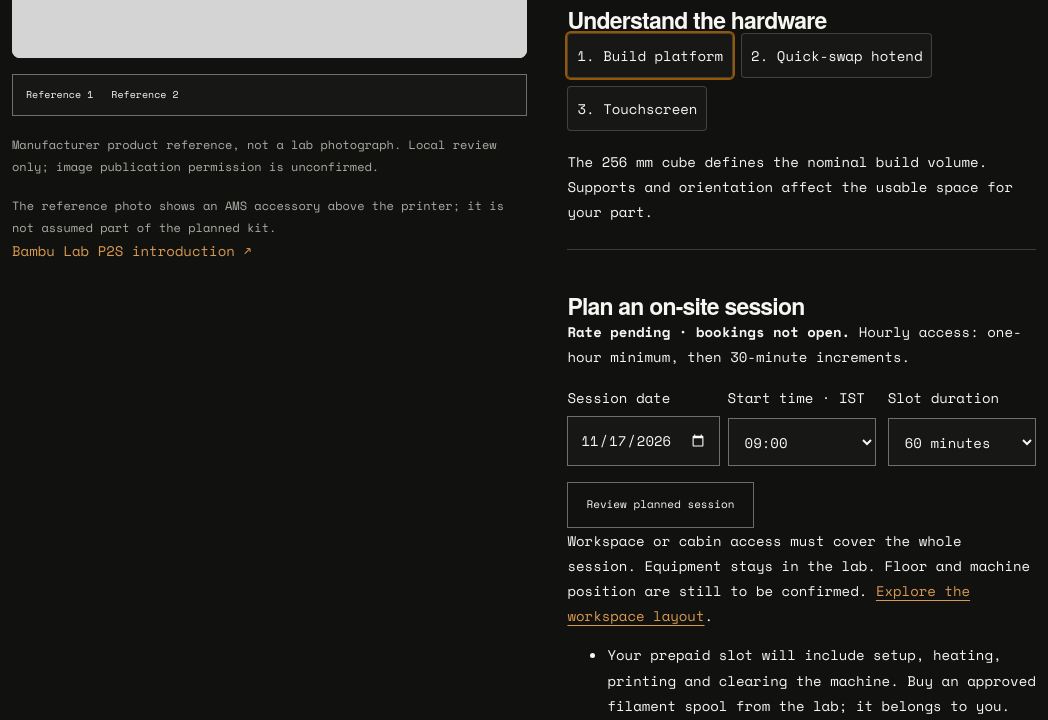
keeps a planned printer session inside standard workspace access
The width and height of the screenshot is (1048, 720).
(page scrolled)
Select "16:00" in the dropdown labelled "Start time · IST" at (802, 442), box [728,418,876,466]
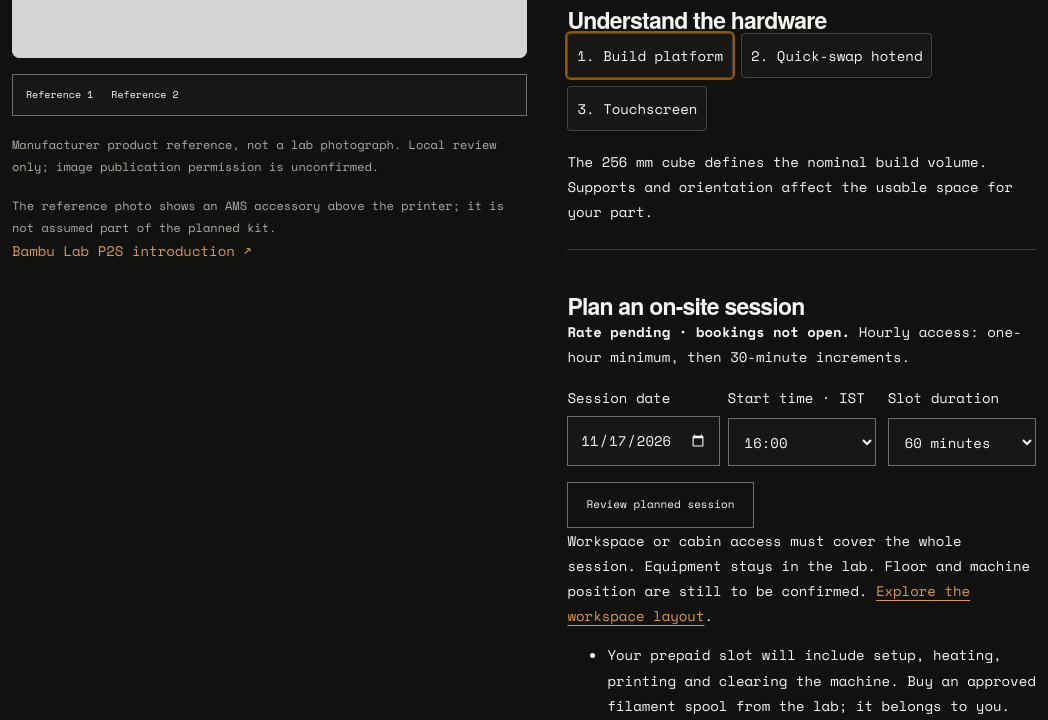
Select "90 minutes" in the dropdown labelled "Slot duration" at (962, 442), box [888,418,1036,466]
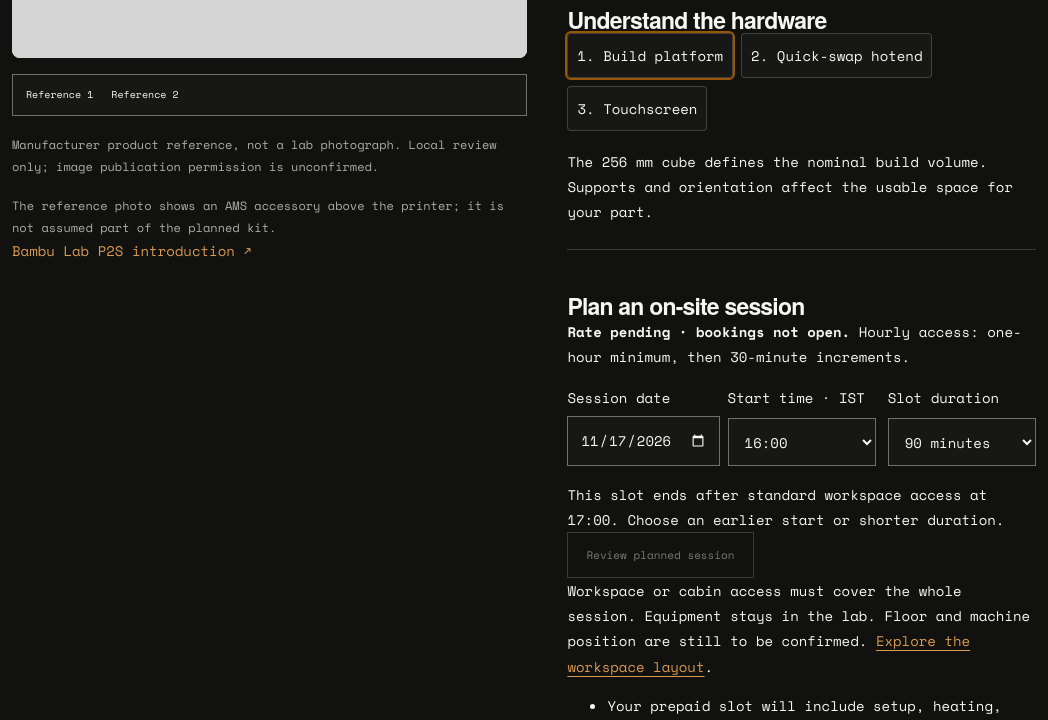
Result: the button "Review planned session" is disabled at [567,532,754,578]
Result: the message shows "17:00" at [567,484,1004,530]
